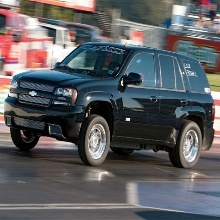no damage: (3, 41, 216, 169)
